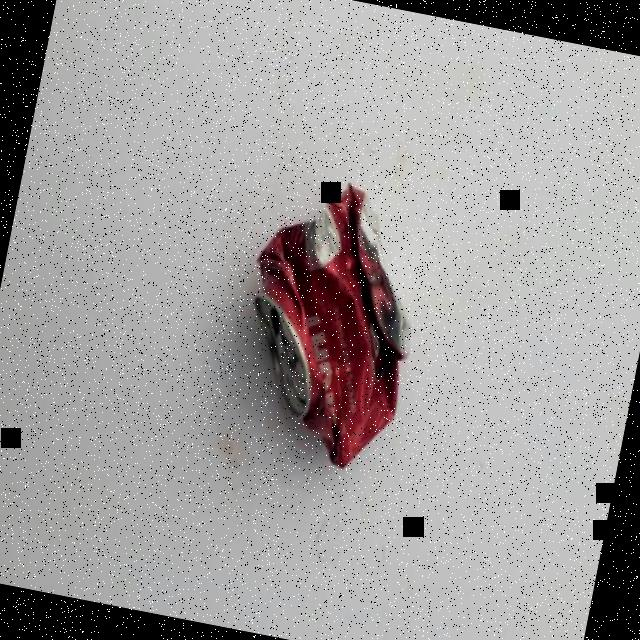can: (219, 168, 443, 482)
